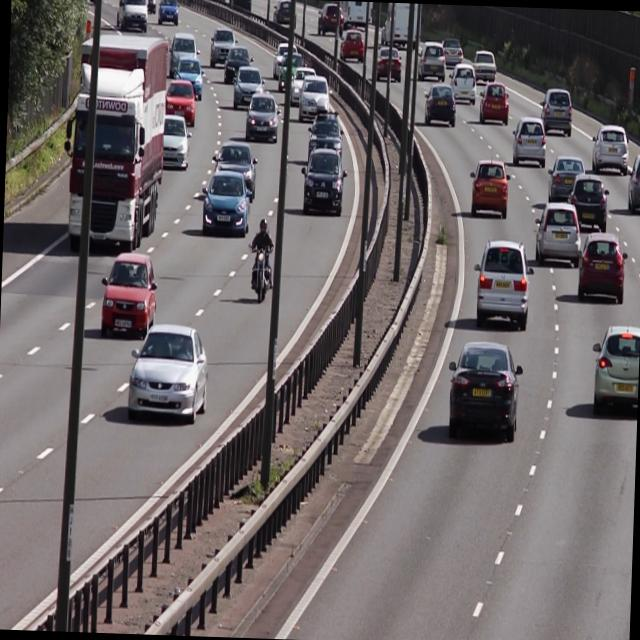Vehicle: (59, 33, 168, 251), (125, 319, 211, 433), (444, 342, 523, 442), (471, 238, 536, 334), (98, 247, 158, 342), (587, 324, 640, 416), (574, 228, 628, 307), (198, 166, 250, 240), (296, 146, 346, 218), (532, 202, 580, 270), (205, 137, 258, 190), (466, 158, 511, 218), (568, 172, 610, 234), (304, 100, 342, 166), (510, 112, 547, 172), (157, 110, 192, 172), (544, 152, 586, 202), (244, 89, 282, 144), (588, 122, 628, 173), (296, 70, 332, 126), (536, 86, 574, 135), (421, 81, 458, 129), (476, 78, 510, 128), (162, 80, 195, 128), (231, 64, 263, 110), (415, 37, 446, 84), (173, 56, 205, 100), (447, 61, 478, 106), (468, 46, 497, 90), (221, 44, 251, 82), (373, 44, 402, 81), (337, 28, 366, 64), (624, 154, 640, 217)
